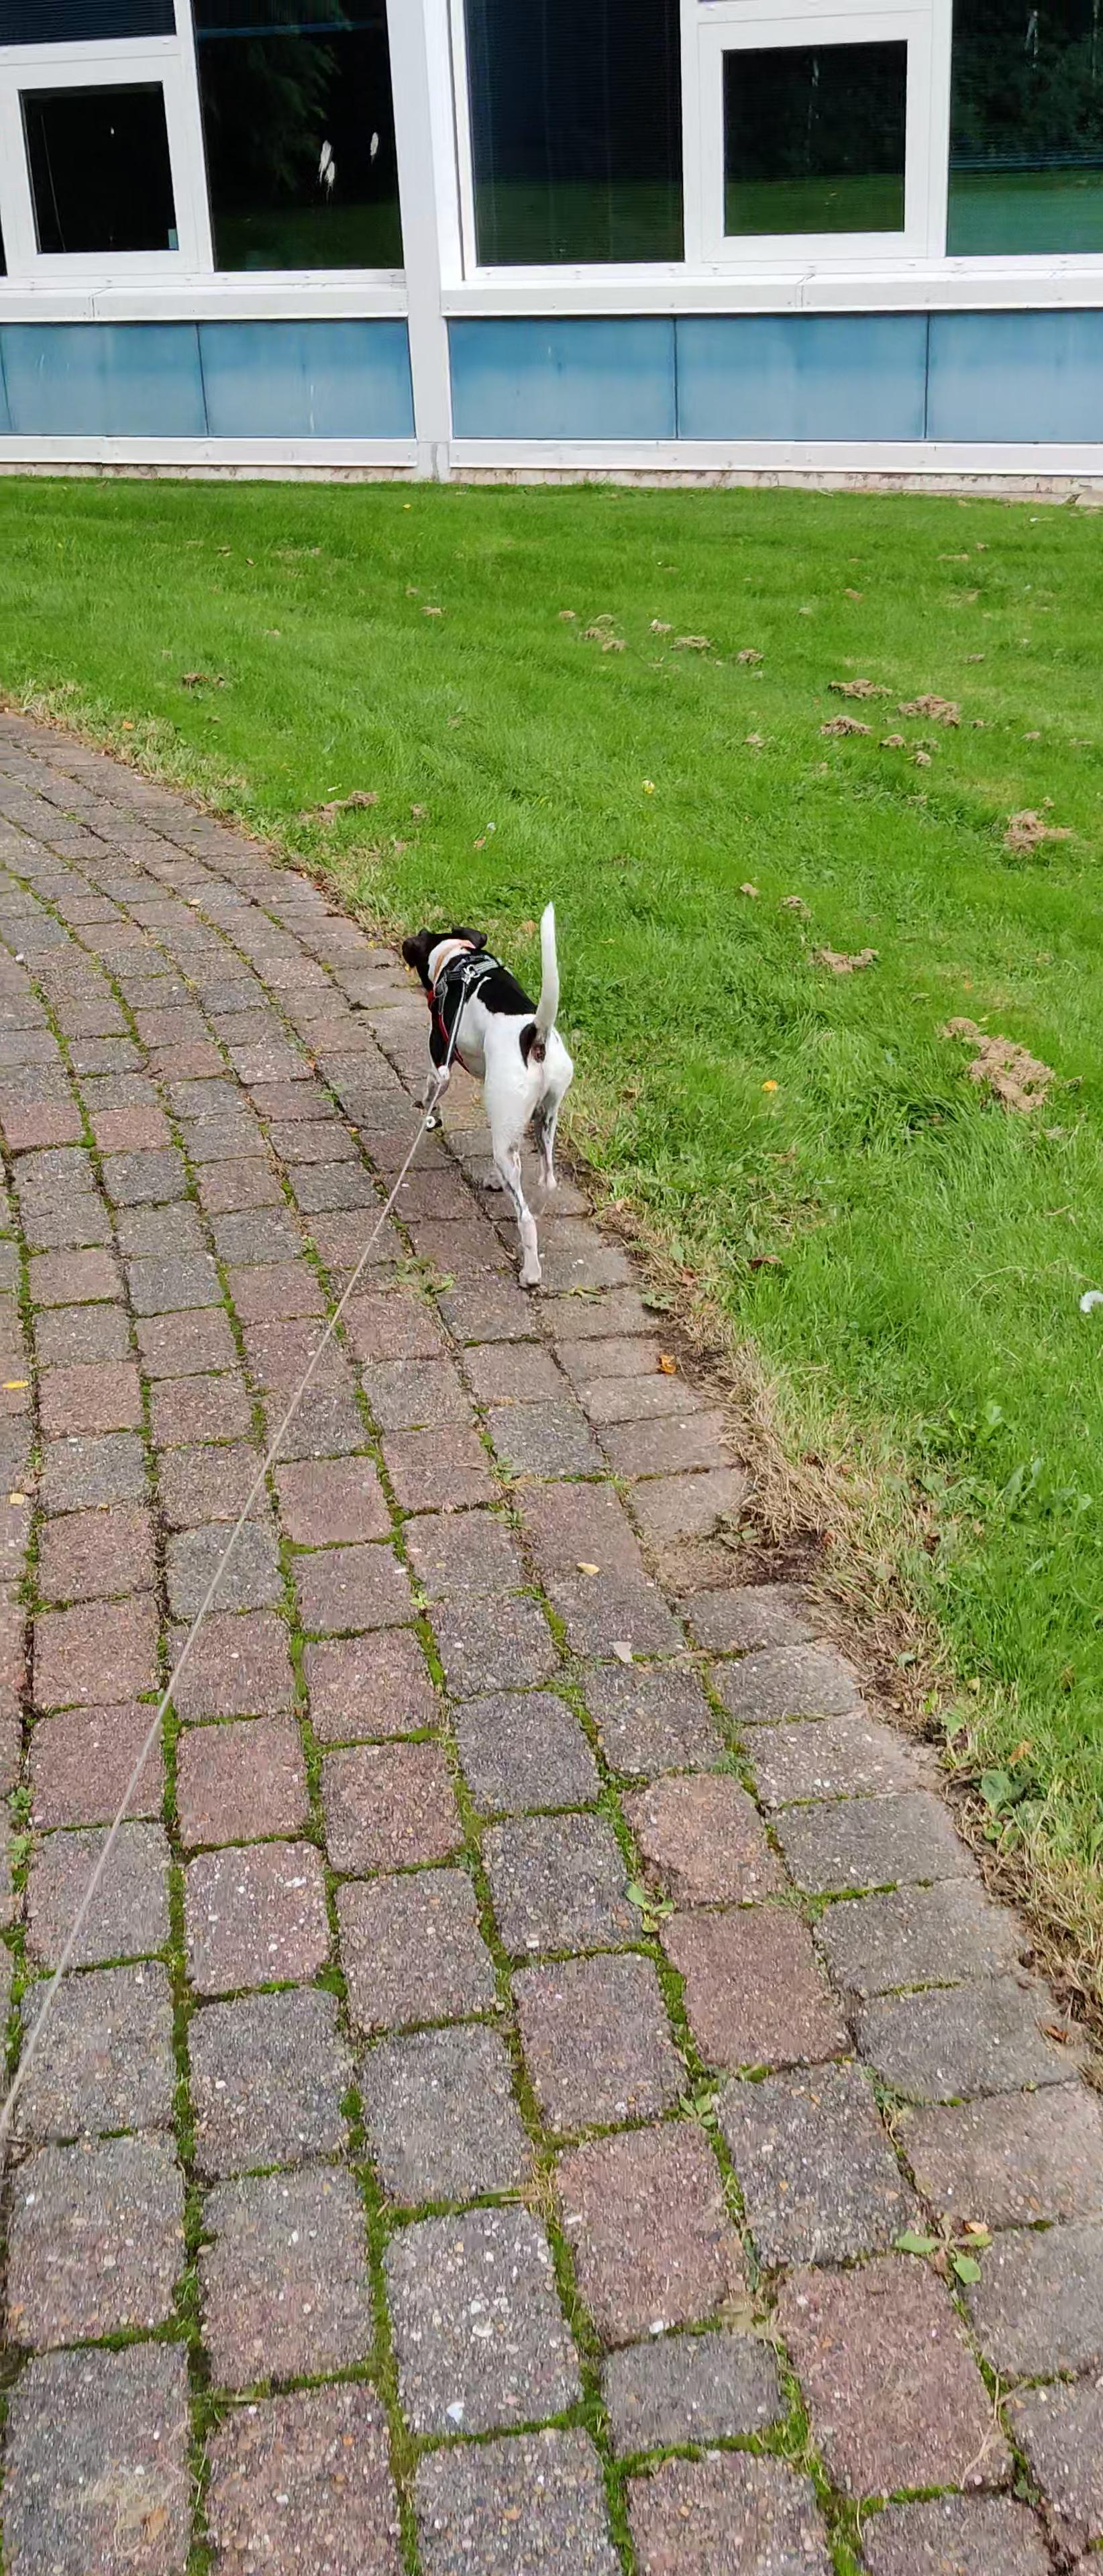Dog: (390, 877, 587, 1306)
